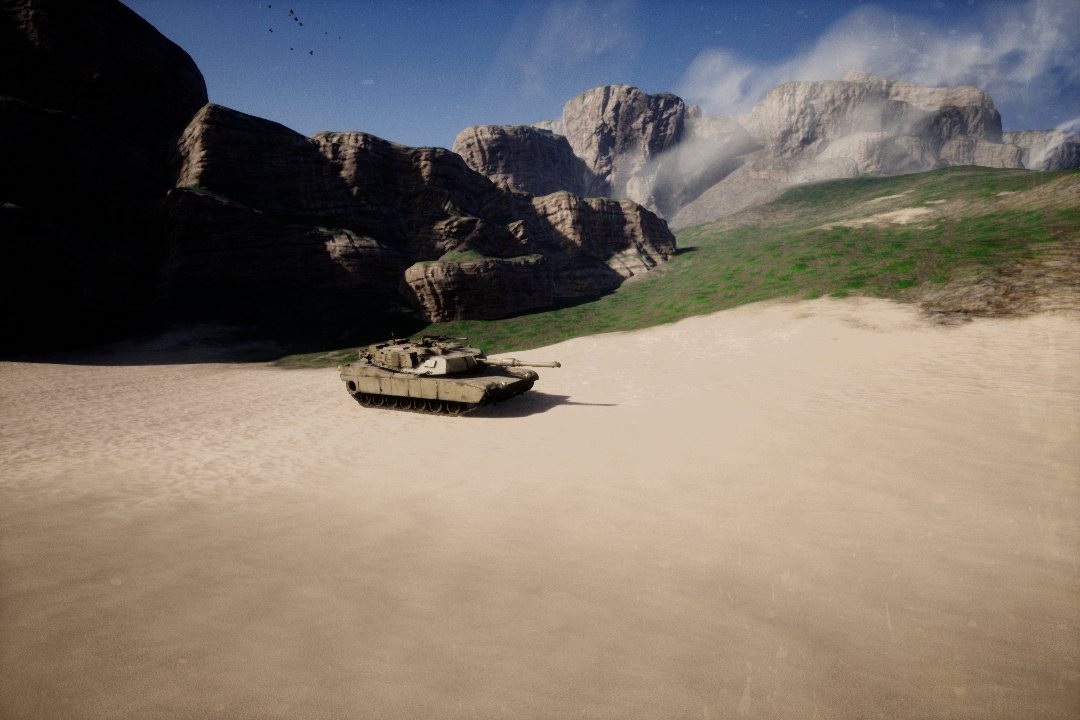tank: (337, 326, 568, 420)
